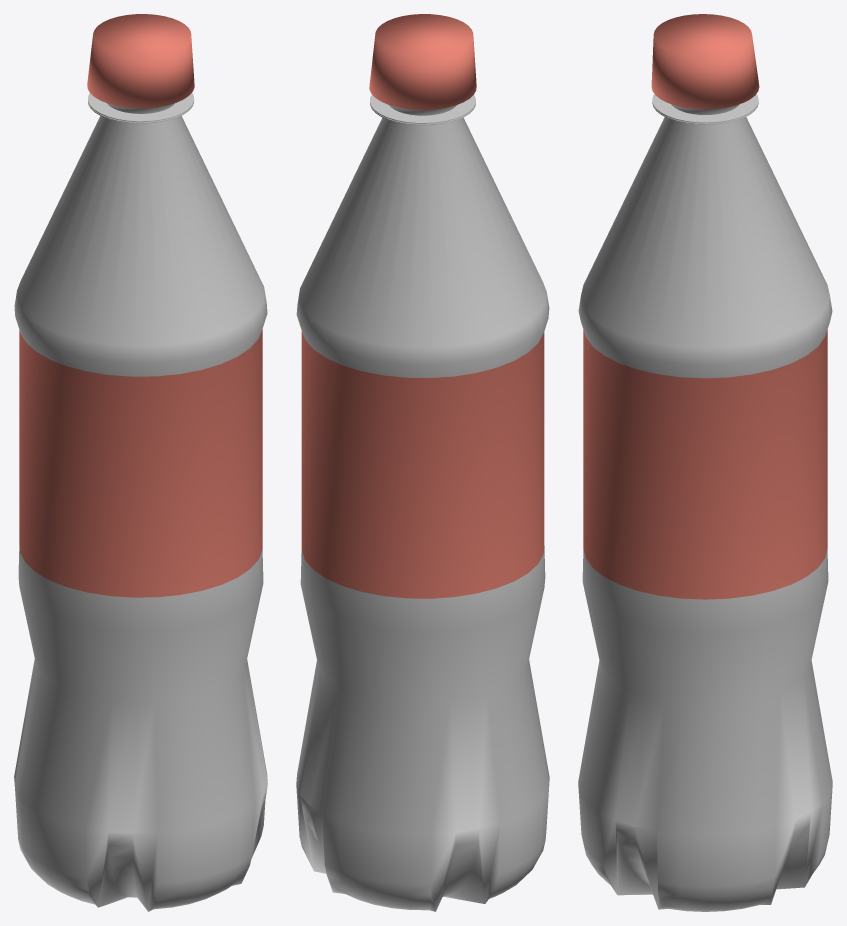
Rendered from Coke02.fbx.
3 renders of one model, left to right at view 1: azimuth 30°, elevation 25°; view 2: azimuth 150°, elevation 25°; view 3: azimuth 270°, elevation 25°, orthographic.
Parts seen in each view (by area): view 1: Cylinder.001; view 2: Cylinder.001; view 3: Cylinder.001.
Boxes of the visible parts, x1,y1,x2,y2 form: Cylinder.001: [14, 14, 267, 911]; Cylinder.001: [296, 14, 549, 911]; Cylinder.001: [578, 14, 832, 911].
Size of the model in its own units: 95.92 by 352 by 95.92.
